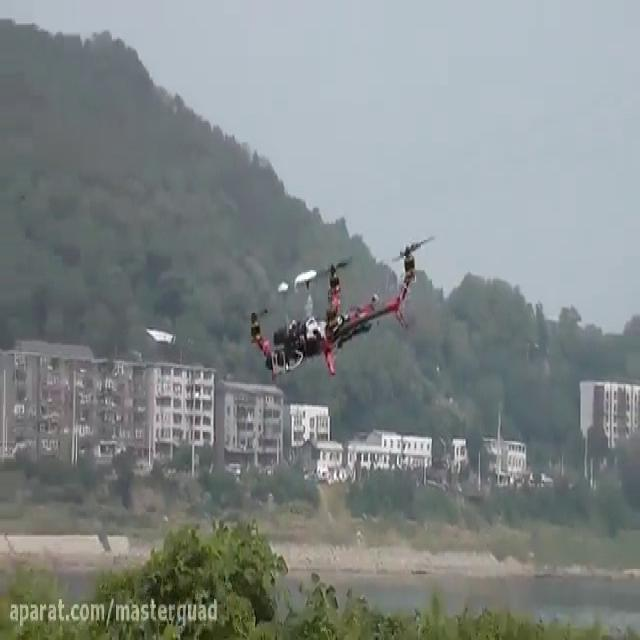drone: (241, 228, 437, 384)
